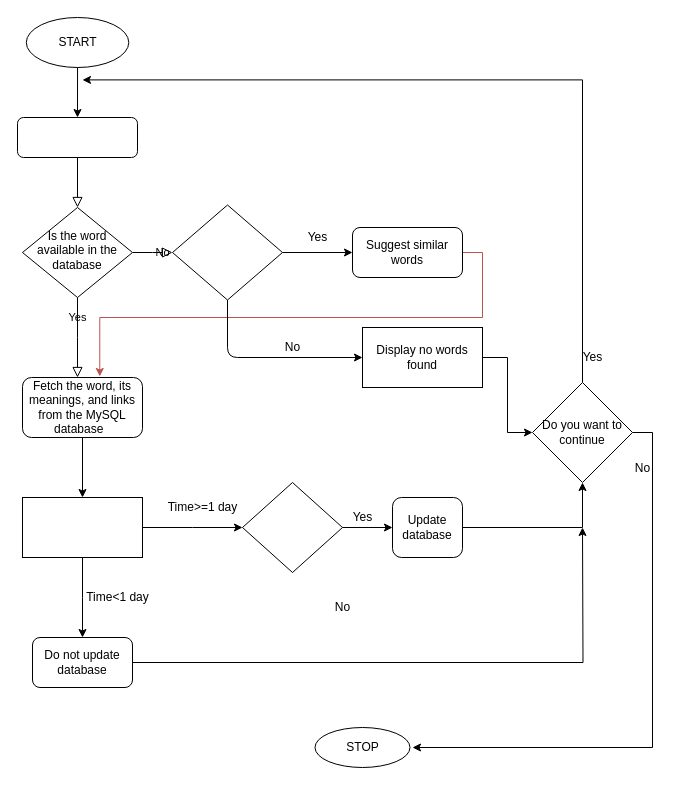
The diagram is 678 pixels wide and 785 high, and some of its shapes have lost their labels. Here are the shapes that lost their labels. From the top down, the centre of each, then its label:
At point (77, 137): "Ask user for a word".
At point (227, 252): "Are any similar words available".
At point (82, 527): "Display the word, meaning and links".
At point (292, 527): "Is internet connection available".
